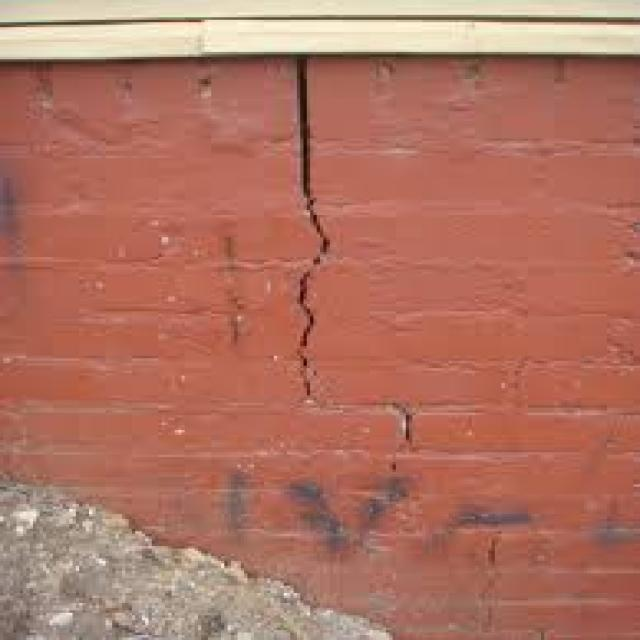Crack: (337, 396, 538, 638), (290, 54, 327, 408)
